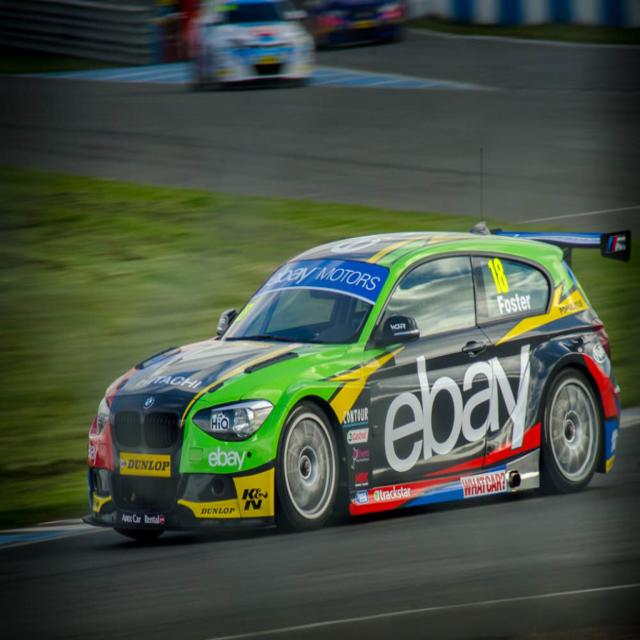car: (82, 150, 620, 540)
